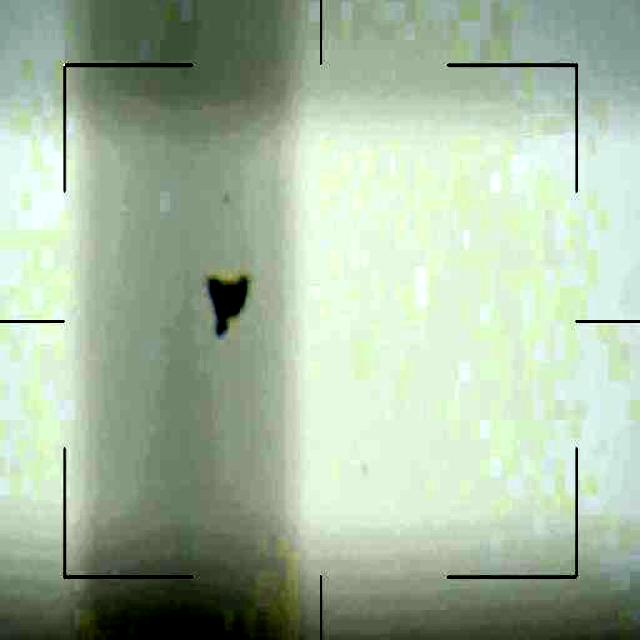bird: (199, 265, 258, 336)
